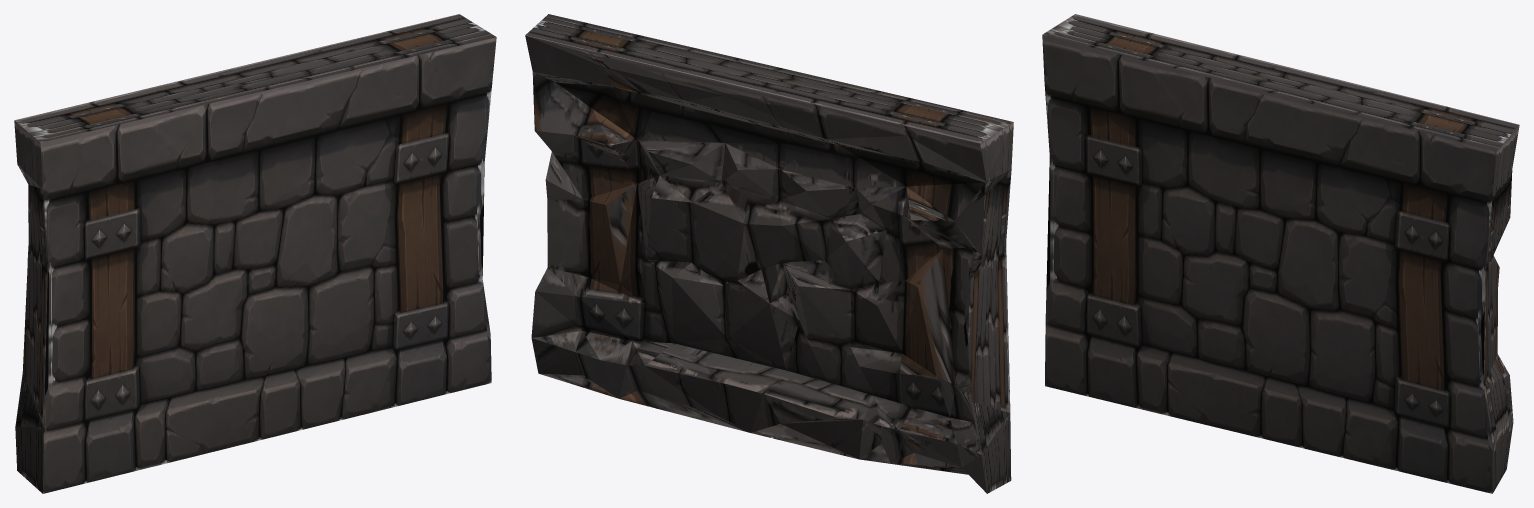
Rendered from SM_Dungeon_Wall_A_LOD2.glb.
The picture shows the model from 3 angles, left to right: view 1: azimuth 30°, elevation 25°; view 2: azimuth 150°, elevation 25°; view 3: azimuth 330°, elevation 25°; orthographic projection. The views are drawn at different scales.
Visible parts, largest first — view 1: SM_Dungeon_Wall_A_LOD2; view 2: SM_Dungeon_Wall_A_LOD2; view 3: SM_Dungeon_Wall_A_LOD2.
Part boxes in pixels (x1=…): SM_Dungeon_Wall_A_LOD2: x1=14, y1=14, x2=496, y2=493; SM_Dungeon_Wall_A_LOD2: x1=525, y1=14, x2=1013, y2=493; SM_Dungeon_Wall_A_LOD2: x1=1042, y1=14, x2=1519, y2=493.
Bounding box in the file's own units: 4.02 × 2.96 × 0.4612.
Materials: 1 (1 with a texture image).
